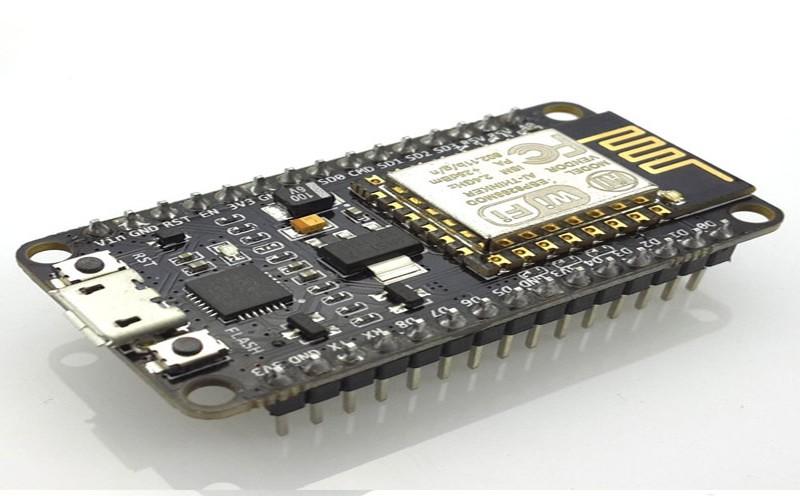IoT Sensor: (8, 97, 788, 449)
